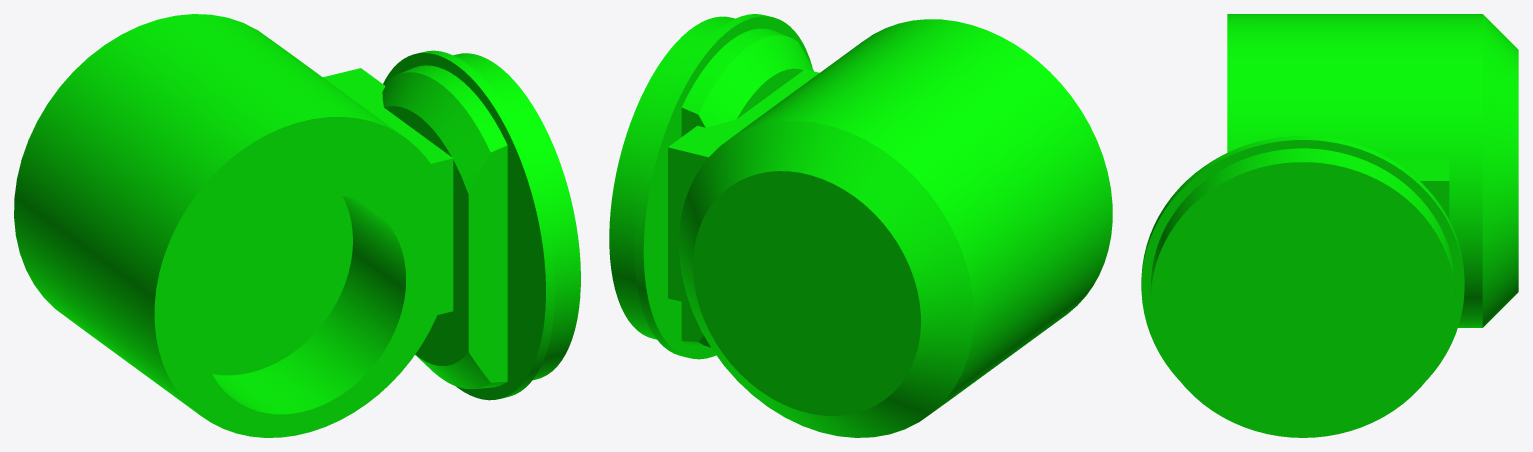
File: psycheThrusterRotor1_a.obj
3 views of the same model, side by side, from view 1: azimuth 30°, elevation 25°; view 2: azimuth 150°, elevation 25°; view 3: azimuth 270°, elevation 25° (orthographic). The views are drawn at different scales.
Size of the model in its own units: 33.41 by 28.62 by 31.21.
